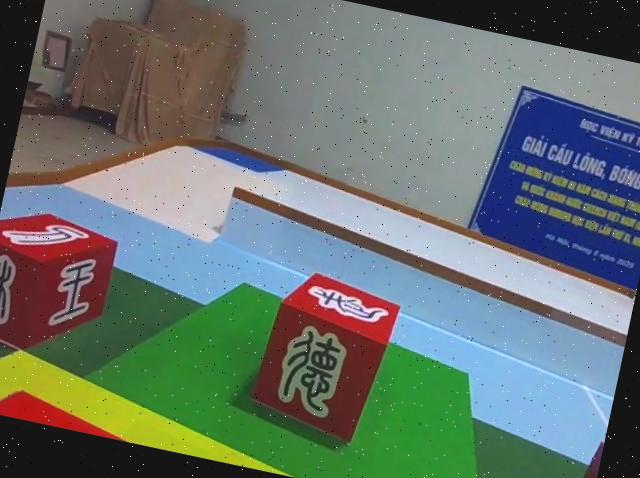R2 Fake: (245, 264, 402, 447), (0, 199, 122, 364), (556, 437, 604, 478)
